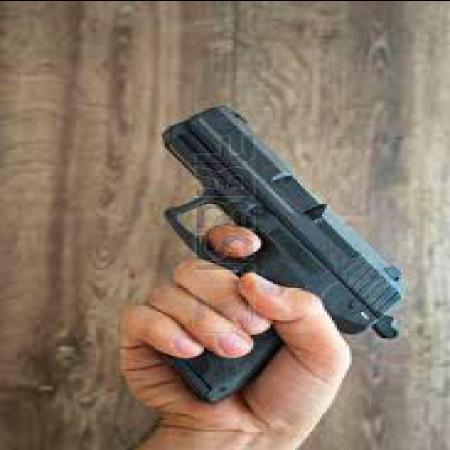Pistol: (160, 107, 408, 407)
